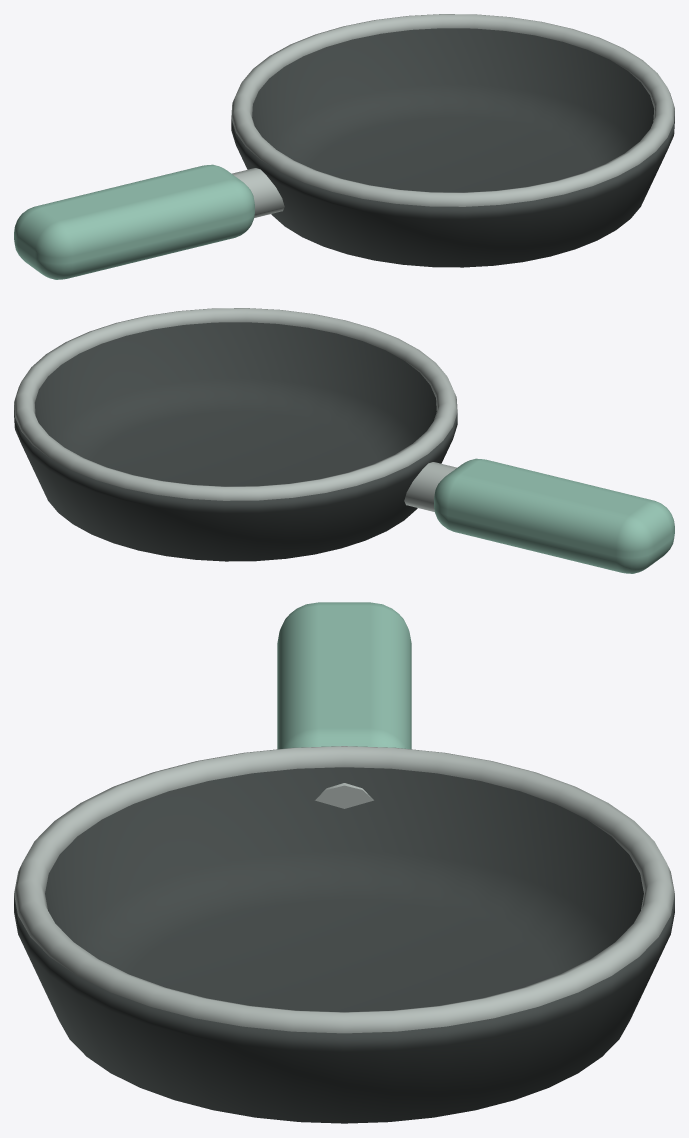
The model's file is pan.glb.
The picture shows the model from 3 angles, top to bottom: view 1: azimuth 30°, elevation 25°; view 2: azimuth 150°, elevation 25°; view 3: azimuth 270°, elevation 25°; orthographic projection. The views are drawn at different scales.
Visible parts, largest first — view 1: Pan_bowl, Pan_handle, Pan_rim, Pan_handle_neck; view 2: Pan_bowl, Pan_handle, Pan_rim, Pan_handle_neck; view 3: Pan_bowl, Pan_rim, Pan_handle, Pan_handle_neck.
Part boxes in pixels (<box>): Pan_bowl: <box>231,28,674,267</box>; Pan_handle: <box>14,164,254,279</box>; Pan_rim: <box>231,14,674,206</box>; Pan_handle_neck: <box>232,168,284,217</box>; Pan_bowl: <box>14,322,457,561</box>; Pan_handle: <box>434,458,674,573</box>; Pan_rim: <box>14,308,457,500</box>; Pan_handle_neck: <box>404,462,456,511</box>; Pan_bowl: <box>14,767,674,1123</box>; Pan_rim: <box>14,746,674,1033</box>; Pan_handle: <box>277,602,411,749</box>; Pan_handle_neck: <box>315,783,373,808</box>.
Bounding box in the file's own units: 1.03 × 0.155 × 0.64.
